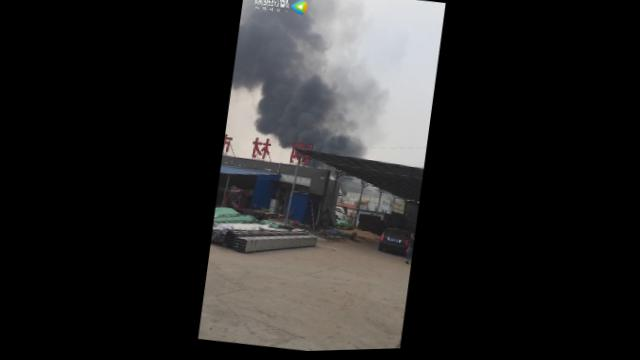smoke: (234, 0, 349, 82), (252, 69, 341, 147), (318, 131, 370, 159)
